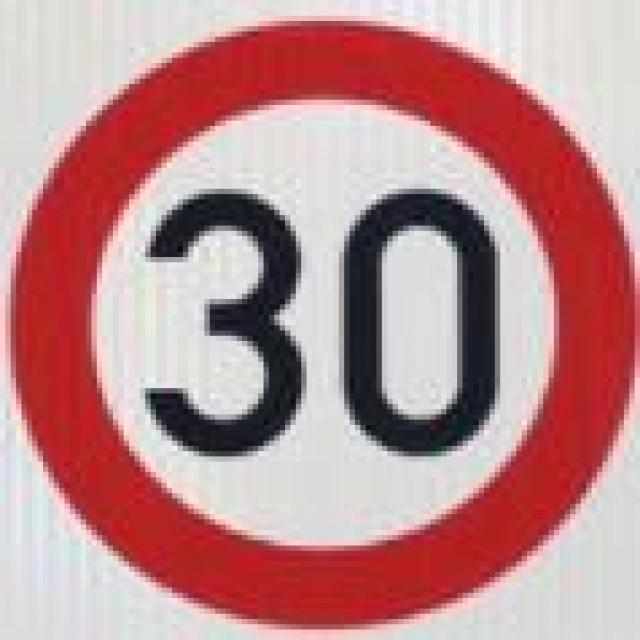traffic_sign: (11, 11, 624, 624)
